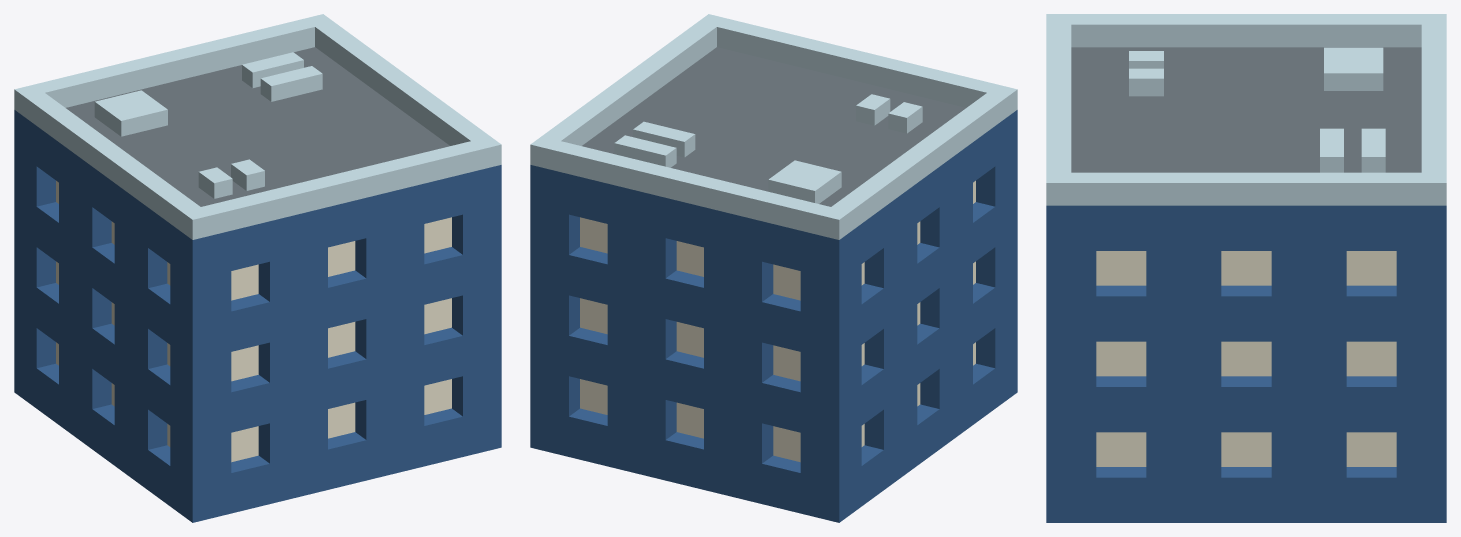
The model's file is Building_2_Extra (Blue).obj.
The picture shows the model from 3 angles, left to right: view 1: azimuth 30°, elevation 25°; view 2: azimuth 150°, elevation 25°; view 3: azimuth 270°, elevation 25°; orthographic projection. The views are drawn at different scales.
Parts seen in each view (by area): view 1: Building_2_Extra_(Blue); view 2: Building_2_Extra_(Blue); view 3: Building_2_Extra_(Blue).
Part boxes in pixels (left/top/right/bottom): Building_2_Extra_(Blue): left=14, top=14, right=501, bottom=522; Building_2_Extra_(Blue): left=530, top=14, right=1017, bottom=522; Building_2_Extra_(Blue): left=1046, top=14, right=1446, bottom=522.
Size of the model in its own units: 1.6 by 1.5 by 1.6.
